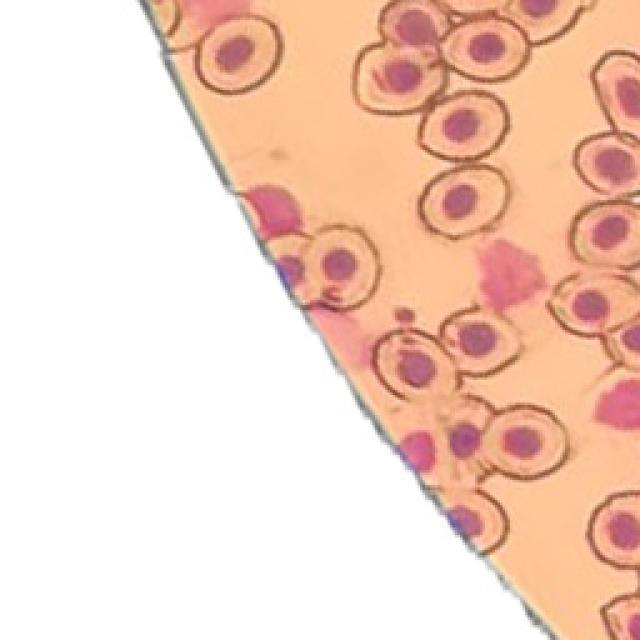RBC: (419, 164, 510, 239), (196, 15, 282, 94), (354, 40, 446, 113), (302, 225, 380, 309), (481, 405, 568, 479), (419, 91, 509, 160), (374, 329, 459, 399), (440, 16, 530, 81), (549, 272, 640, 336), (440, 308, 521, 376), (440, 397, 496, 486), (436, 488, 509, 553), (571, 200, 640, 268), (591, 51, 640, 139), (588, 491, 640, 572), (575, 132, 640, 194), (503, 0, 587, 44), (379, 0, 450, 46), (604, 316, 640, 369), (605, 596, 640, 640), (399, 431, 435, 472)
WBC: (244, 185, 301, 239), (595, 379, 640, 429)
